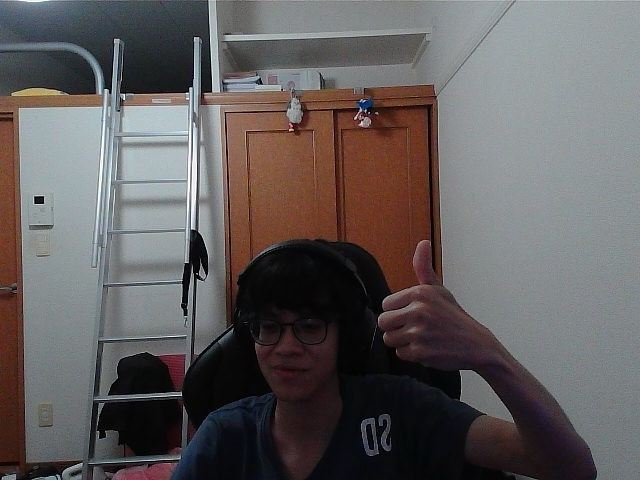thumb_up: (385, 245, 474, 353)
